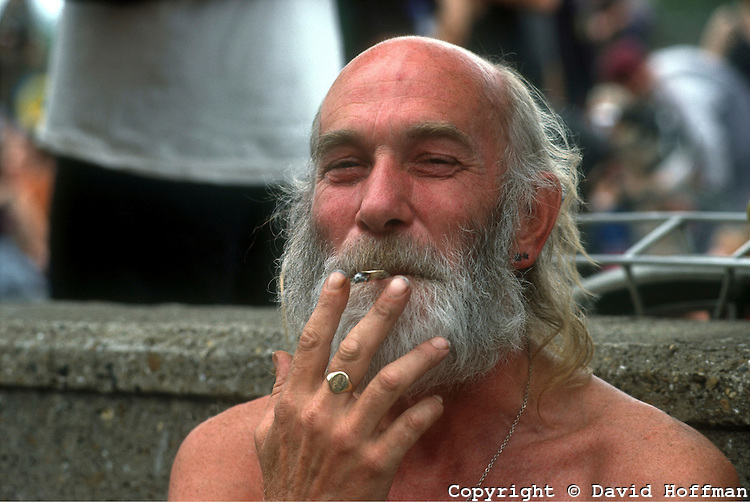cigarette: (351, 265, 396, 290)
